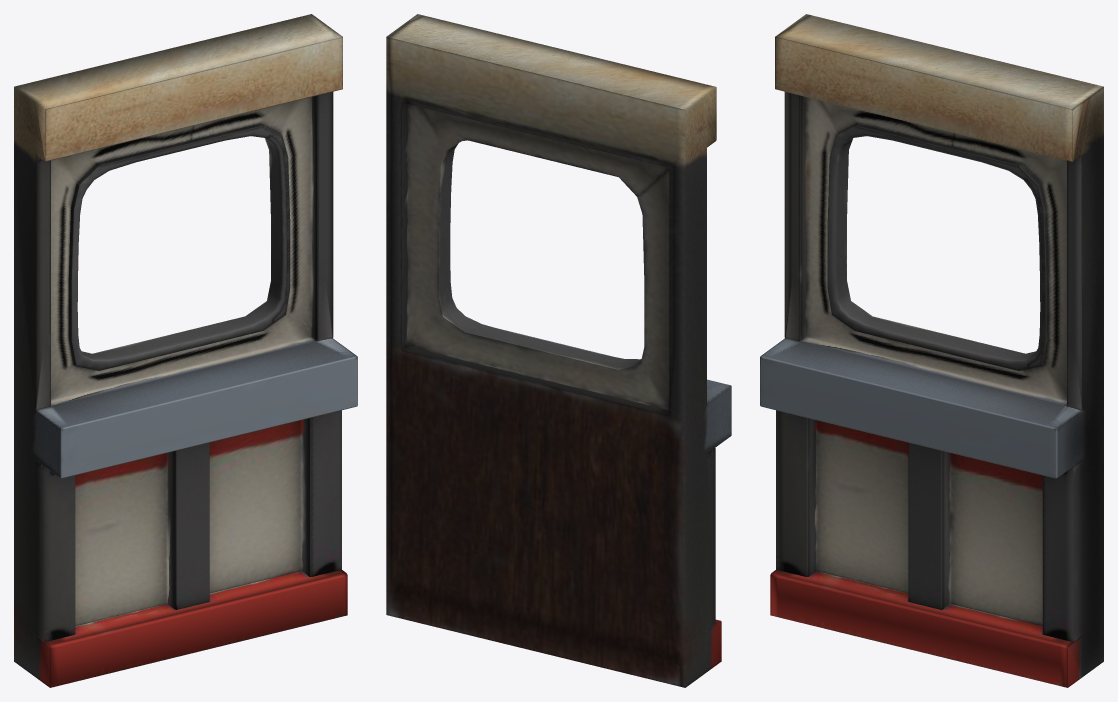
File: D_Window.fbx
The picture shows the model from 3 angles, left to right: view 1: azimuth 30°, elevation 25°; view 2: azimuth 150°, elevation 25°; view 3: azimuth 330°, elevation 25°; orthographic projection.
Parts seen in each view (by area): view 1: pCube51; view 2: pCube51; view 3: pCube51.
Part boxes in pixels (left/top/right/bottom): pCube51: left=14, top=14, right=357, bottom=687; pCube51: left=386, top=14, right=731, bottom=687; pCube51: left=760, top=14, right=1103, bottom=687.
Size of the model in its own units: 2.9 by 5.35 by 0.7893.
1 material, 1 textured.
